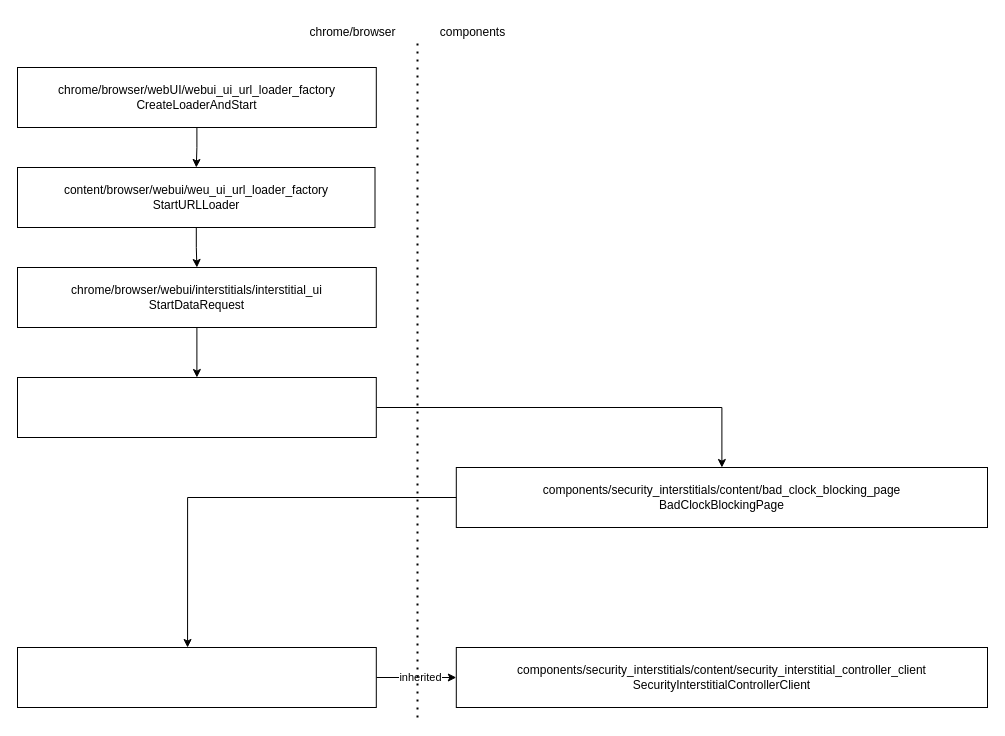
Image size: 1005x736. Some labels were removed from this diagram. Here are the shapes that lost their labels. From the top down, the centre of each, then its label:
At point 196,407: "chrome/browser/webui/interstitials/interstitial_ui CreateBadClockBlockingPage".
At point 196,677: "chrome/browser/ssl/ssl_error_controller_client SSLErrorControllerClient".
